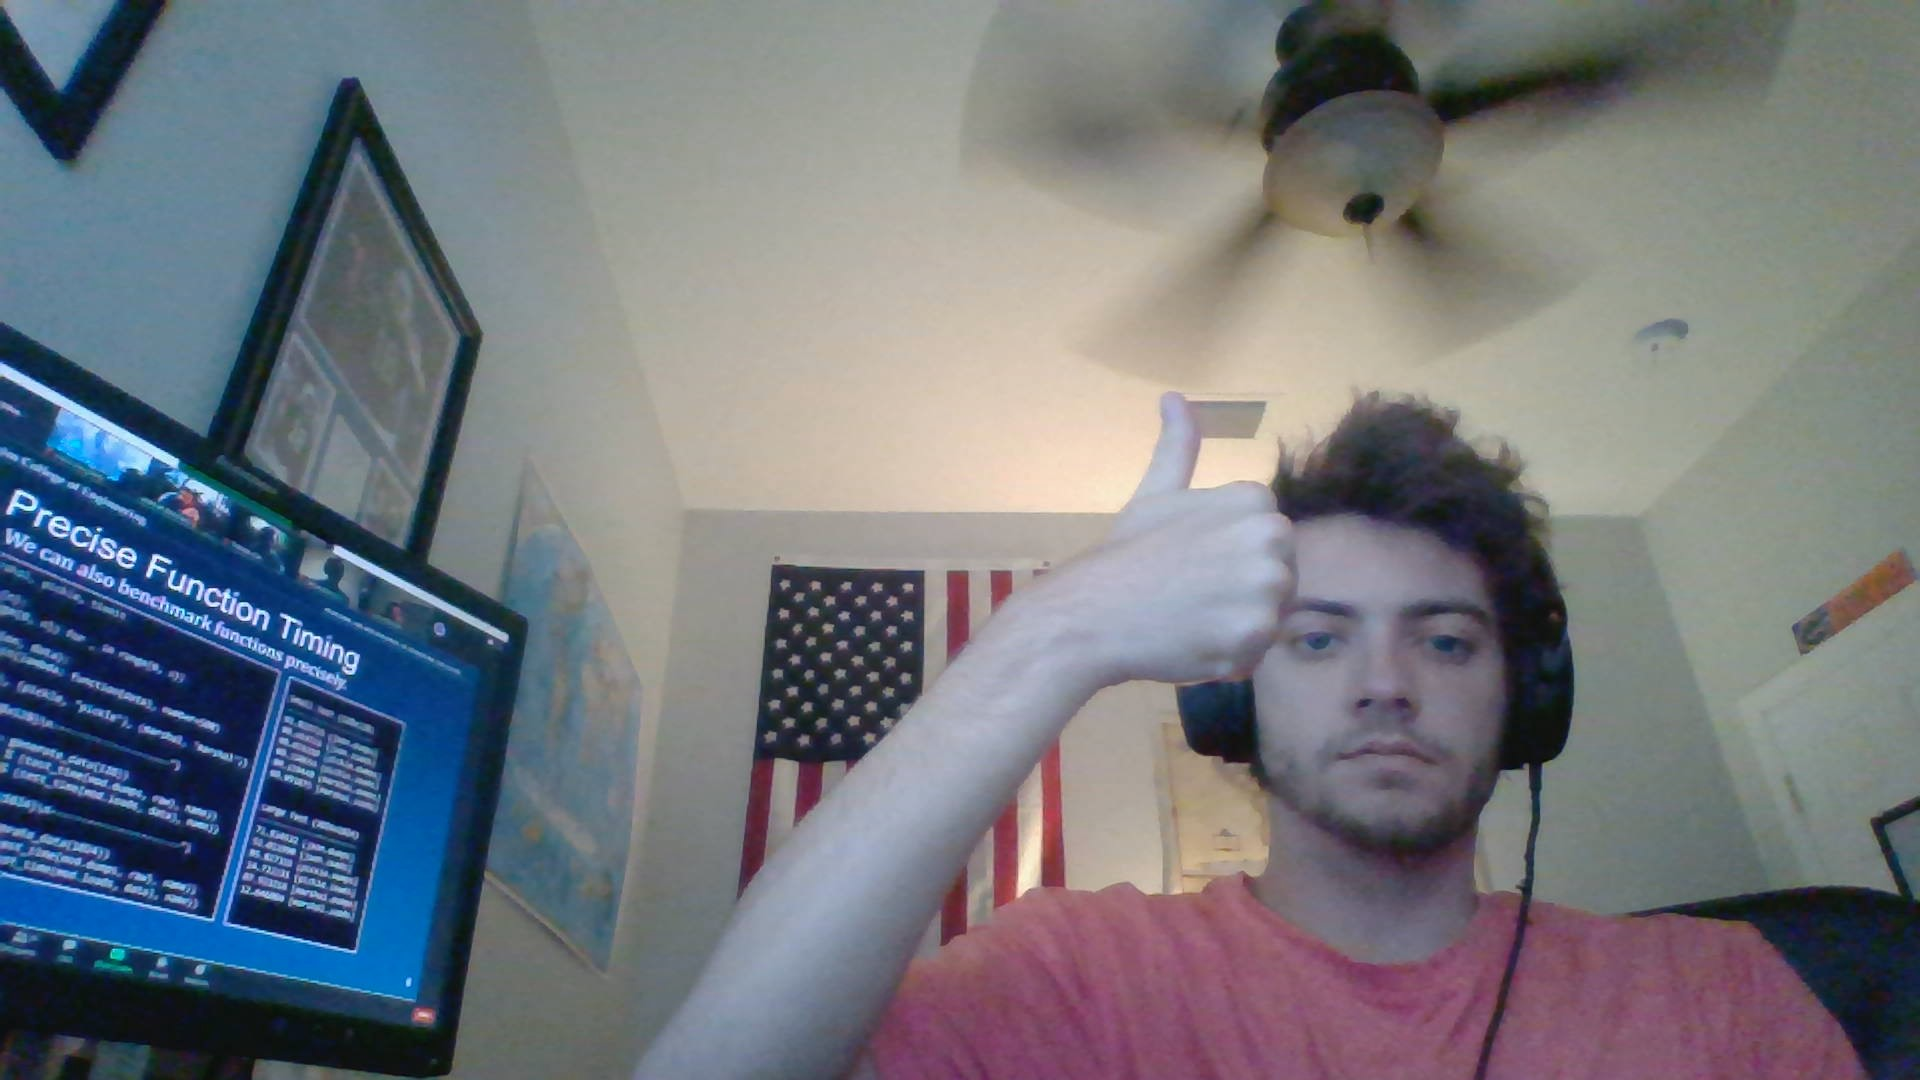Right Thumb Up: (977, 371, 1325, 709)
